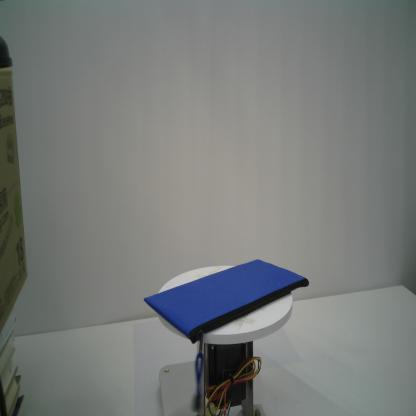Stationery: (142, 257, 312, 414)
